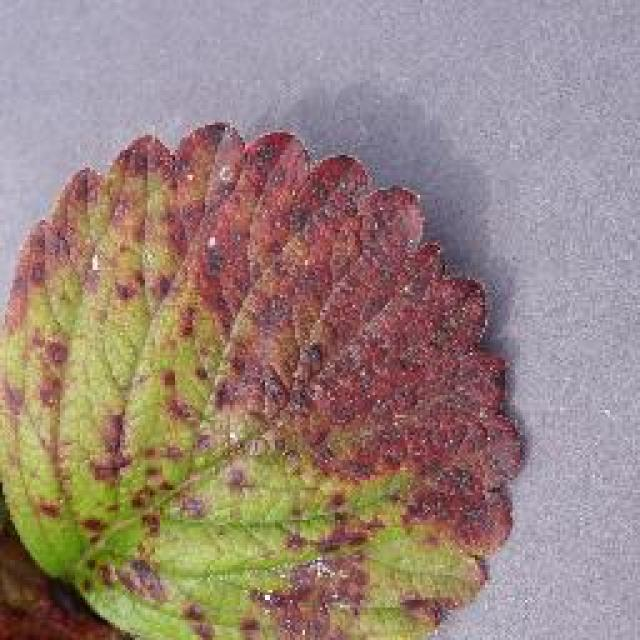Strawberry leaf scorch: (17, 166, 463, 592)
